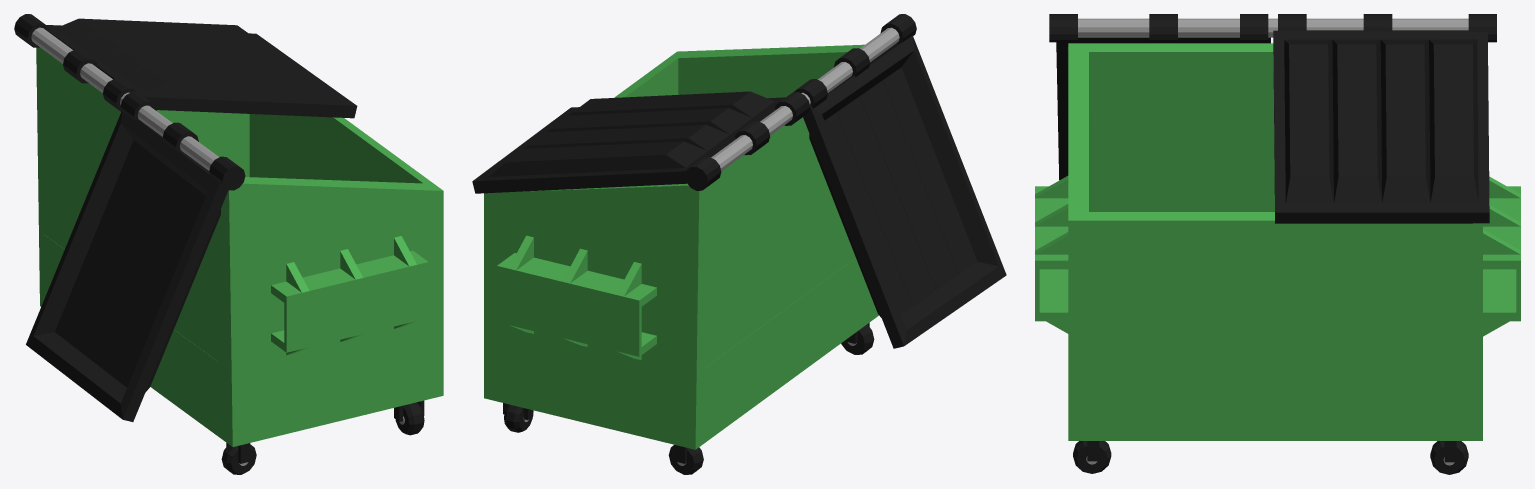
Rendered from dumpster_large.glb.
The picture shows the model from 3 angles, left to right: view 1: azimuth 30°, elevation 25°; view 2: azimuth 150°, elevation 25°; view 3: azimuth 270°, elevation 25°; orthographic projection. The views are drawn at different scales.
Visible parts, largest first — view 1: Node; view 2: Node; view 3: Node.
Part boxes in pixels (x1,y1,x2,y2): Node: [14, 14, 443, 474]; Node: [472, 14, 1006, 474]; Node: [1035, 14, 1520, 474].
Bounding box in the file's own units: 0.8723 × 0.82 × 1.02.
